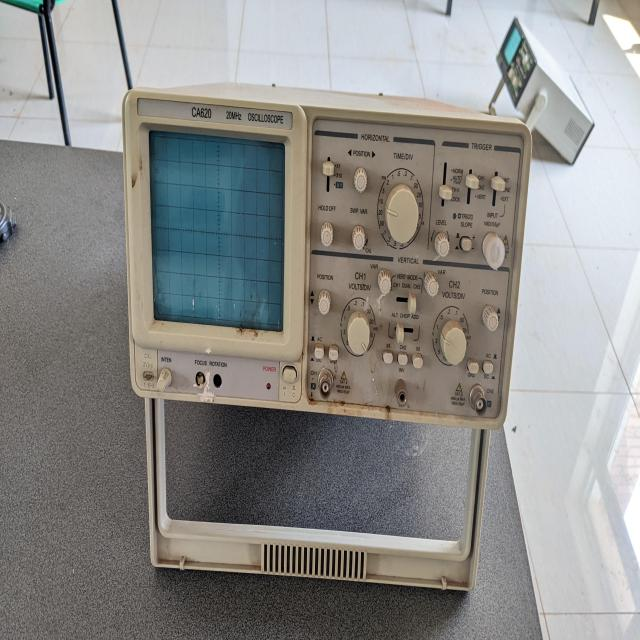Cathode Ray Oscilloscope: (117, 76, 536, 621)
